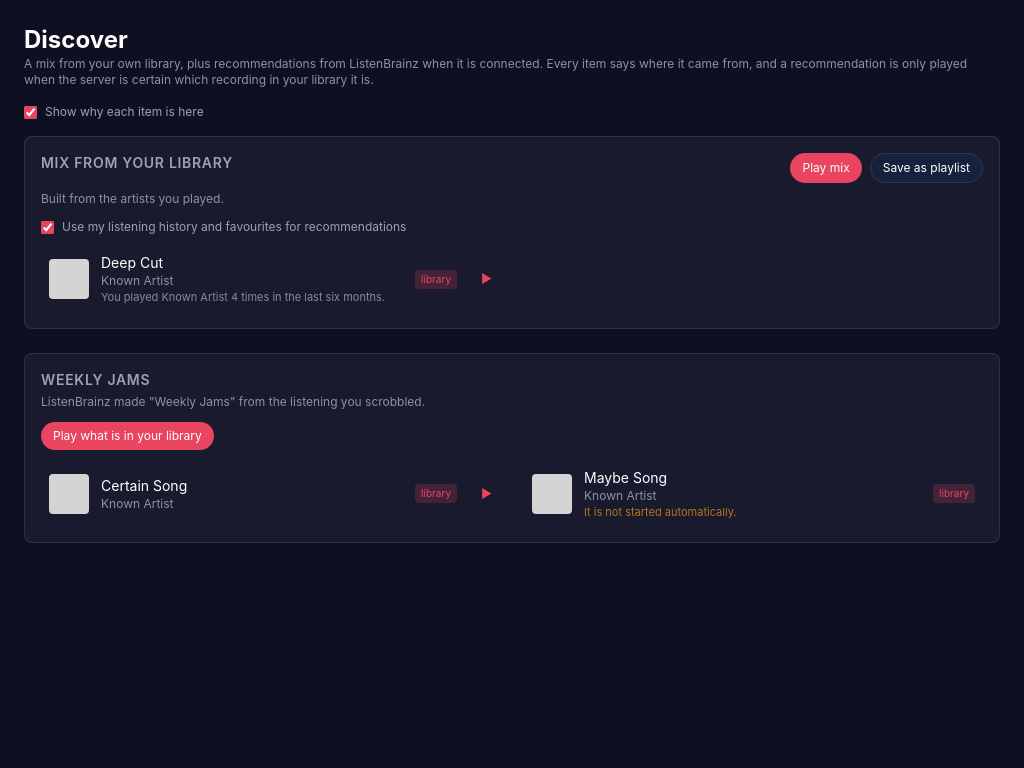
Discover page › keeps a mix by saving it as a playlist
Click the button "Save as playlist".
click(926, 168)  # box top-left (870, 153), bottom-right (983, 183)
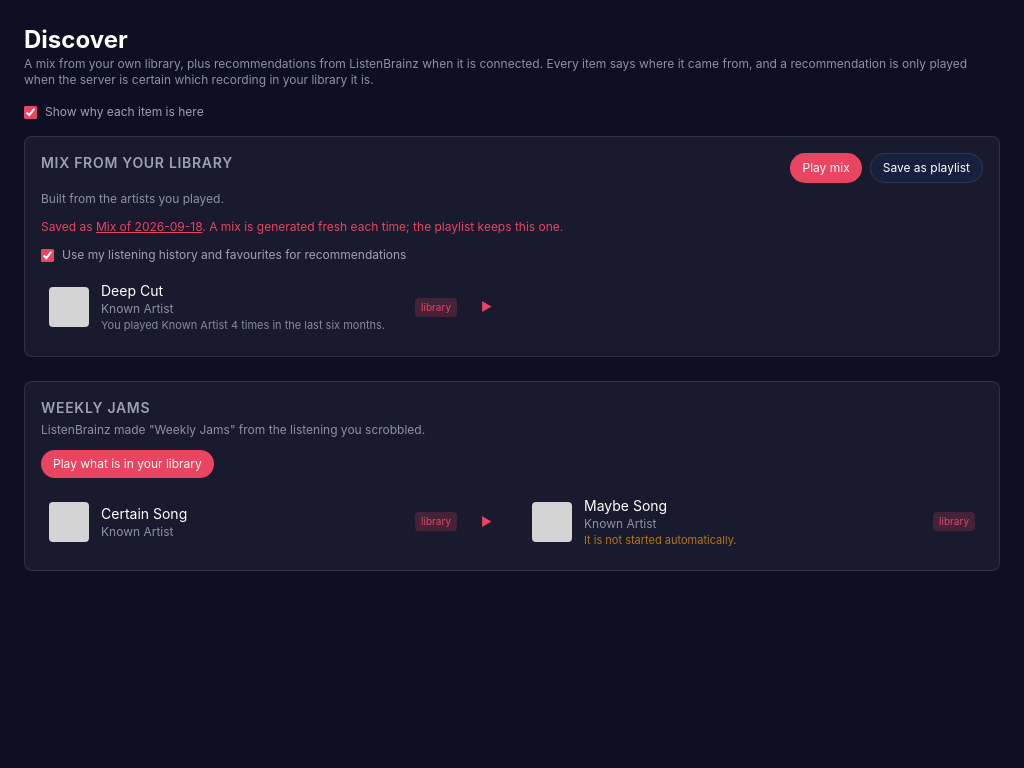
Expected: the link "Mix of 2026-09-18" is shown, top-left (96, 219), bottom-right (202, 234)
